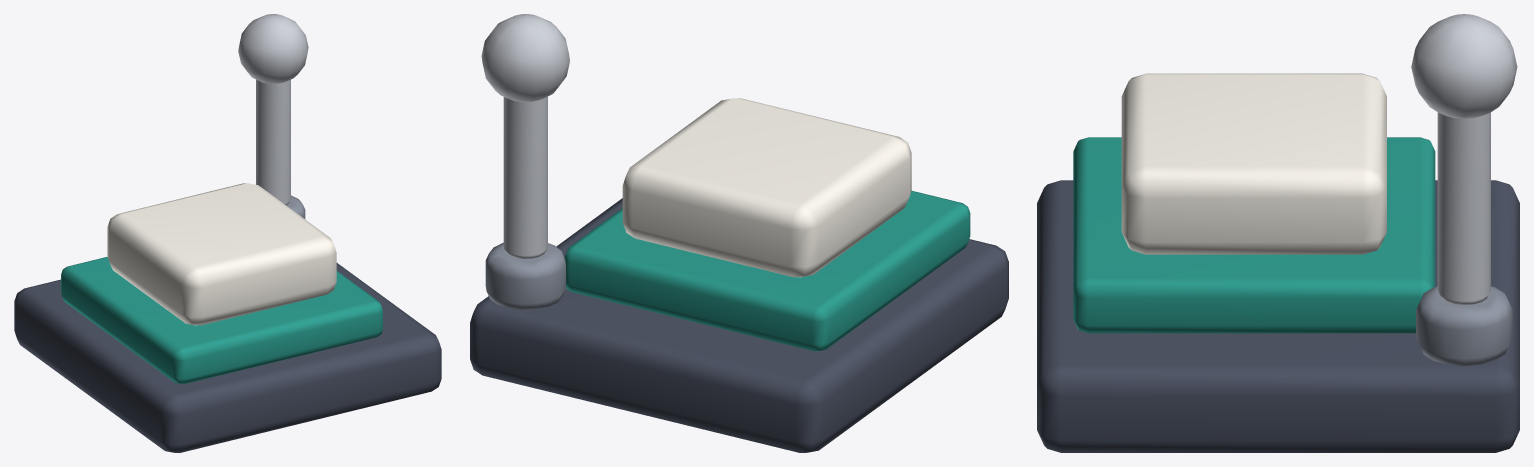
File: Ctrl_Transmit.glb
The picture shows the model from 3 angles, left to right: view 1: azimuth 30°, elevation 25°; view 2: azimuth 150°, elevation 25°; view 3: azimuth 270°, elevation 25°; orthographic projection. The views are drawn at different scales.
Visible parts, largest first — view 1: Ctrl_Transmit.Base, Ctrl_Transmit.Move_Button, Ctrl_Transmit.Plinth, Ctrl_Transmit.Antenna; view 2: Ctrl_Transmit.Base, Ctrl_Transmit.Move_Button, Ctrl_Transmit.Plinth, Ctrl_Transmit.Antenna; view 3: Ctrl_Transmit.Base, Ctrl_Transmit.Move_Button, Ctrl_Transmit.Plinth, Ctrl_Transmit.Antenna.
Boxes of the visible parts, x1,y1,x2,y2 form: Ctrl_Transmit.Base: [14, 263, 441, 452]; Ctrl_Transmit.Move_Button: [107, 183, 336, 325]; Ctrl_Transmit.Plinth: [61, 256, 382, 383]; Ctrl_Transmit.Antenna: [238, 14, 308, 218]; Ctrl_Transmit.Base: [470, 198, 1008, 452]; Ctrl_Transmit.Move_Button: [622, 98, 911, 277]; Ctrl_Transmit.Plinth: [564, 190, 970, 351]; Ctrl_Transmit.Antenna: [481, 14, 569, 310]; Ctrl_Transmit.Base: [1037, 180, 1519, 452]; Ctrl_Transmit.Move_Button: [1121, 73, 1386, 254]; Ctrl_Transmit.Plinth: [1073, 137, 1435, 333]; Ctrl_Transmit.Antenna: [1411, 14, 1517, 365].
Size of the model in its own units: 0.2 by 0.192 by 0.2.
Materials: 1 (1 with a texture image).
